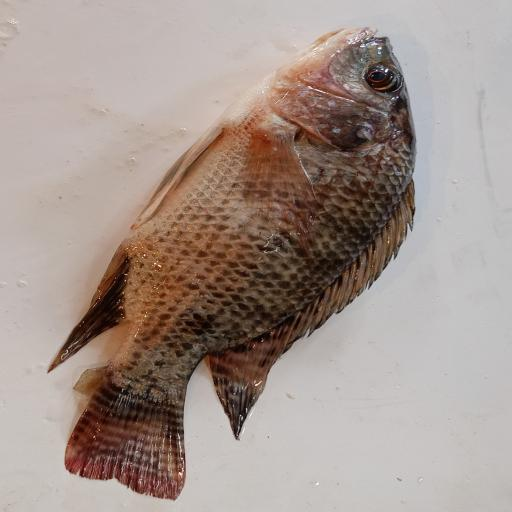Tilapia: (47, 26, 417, 501)
